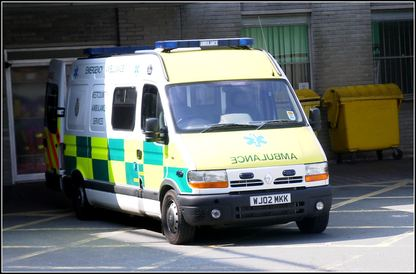ambulance: (42, 17, 334, 245)
